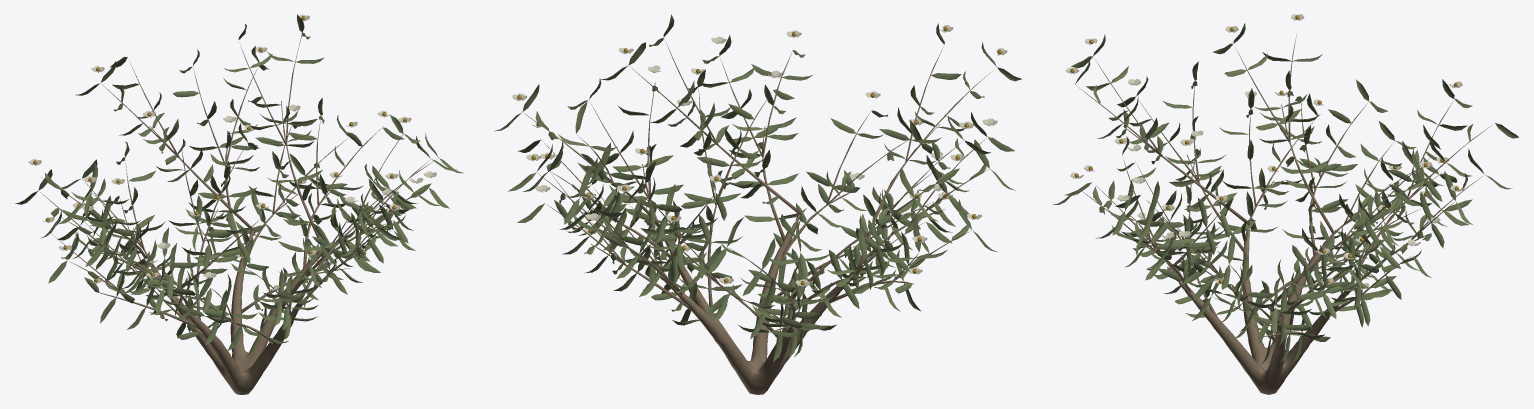
Rendered from Ciste_0_Niveau0.fbx.
3 views of the same model, side by side, from view 1: azimuth 30°, elevation 25°; view 2: azimuth 150°, elevation 25°; view 3: azimuth 270°, elevation 25° (orthographic). The views are drawn at different scales.
Parts seen in each view (by area): view 1: Ciste_0_Niveau0; view 2: Ciste_0_Niveau0; view 3: Ciste_0_Niveau0.
Part boxes in pixels (<box>): Ciste_0_Niveau0: <box>15,14,463,394</box>; Ciste_0_Niveau0: <box>494,14,1021,394</box>; Ciste_0_Niveau0: <box>1052,14,1518,394</box>.
Size of the model in its own units: 77.4 by 55.15 by 76.09.
